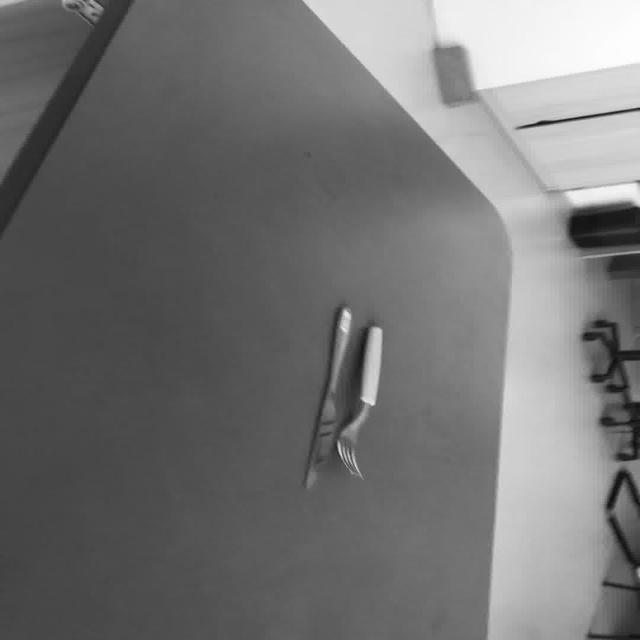fork: (335, 324, 382, 479)
knife fork: (302, 305, 352, 489)
